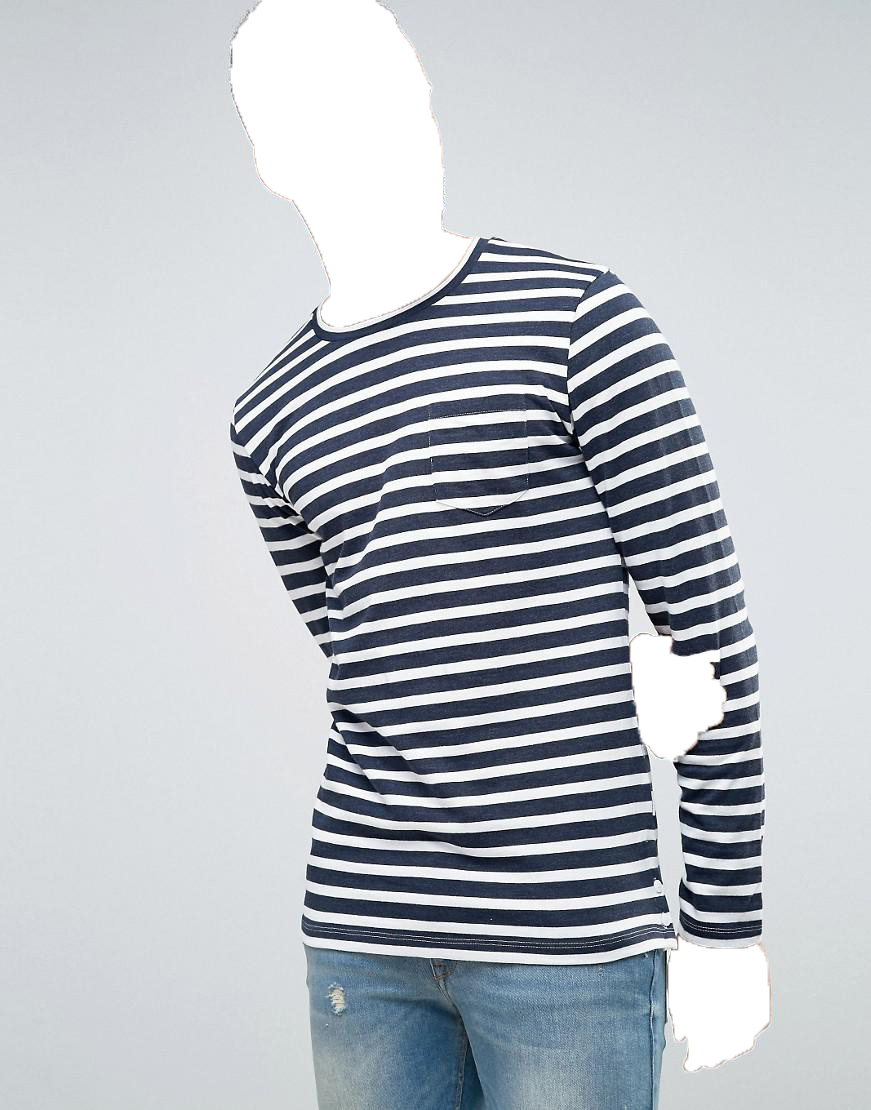teeshirt: (218, 234, 776, 957)
